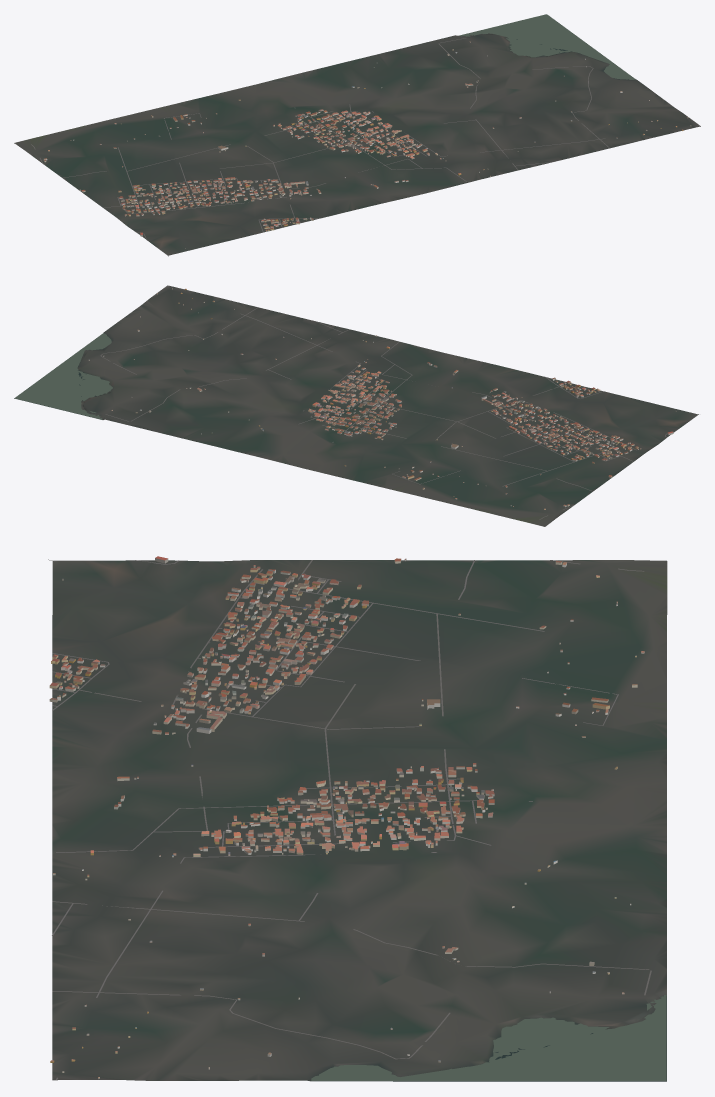
The picture shows the model from 3 angles, top to bottom: view 1: azimuth 30°, elevation 25°; view 2: azimuth 150°, elevation 25°; view 3: azimuth 270°, elevation 25°; orthographic projection. The views are drawn at different scales.
Visible parts, largest first — view 1: ground, buildings, water, roads; view 2: ground, buildings, water, roads; view 3: ground, buildings, water, roads.
Part boxes in pixels (bbox=[...]): ground: bbox=[14, 19, 700, 255]; buildings: bbox=[43, 41, 691, 248]; water: bbox=[459, 14, 635, 79]; roads: bbox=[31, 38, 699, 256]; ground: bbox=[14, 285, 698, 526]; buildings: bbox=[88, 288, 676, 509]; water: bbox=[15, 333, 112, 419]; roads: bbox=[100, 286, 698, 519]; ground: bbox=[52, 560, 667, 1081]; buildings: bbox=[49, 556, 644, 1078]; water: bbox=[311, 995, 666, 1080]; roads: bbox=[48, 559, 651, 1079].
Size of the model in its own units: 2804 by 21.05 by 1413.
